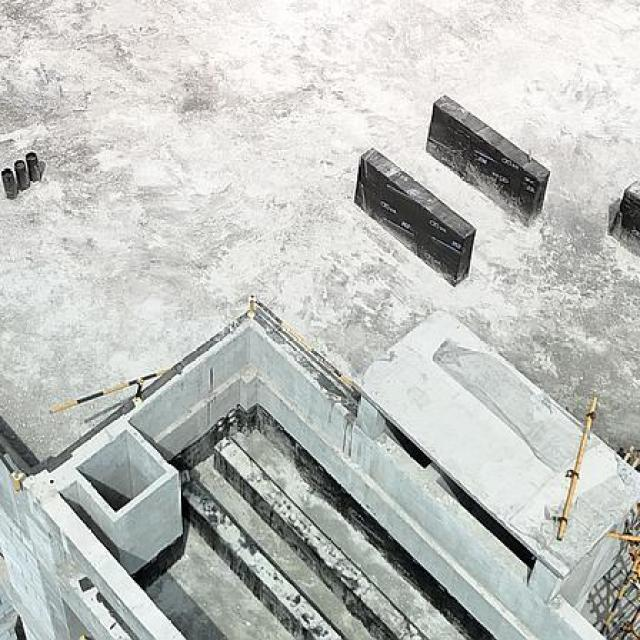edge_guardrail: (248, 294, 353, 387), (50, 370, 166, 417), (0, 450, 20, 493)
